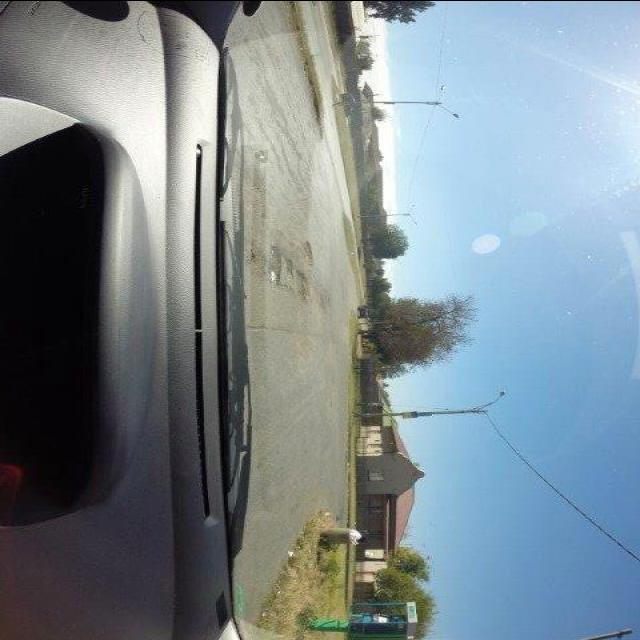lubang: (265, 245, 287, 291), (294, 267, 312, 298), (302, 238, 318, 261)
